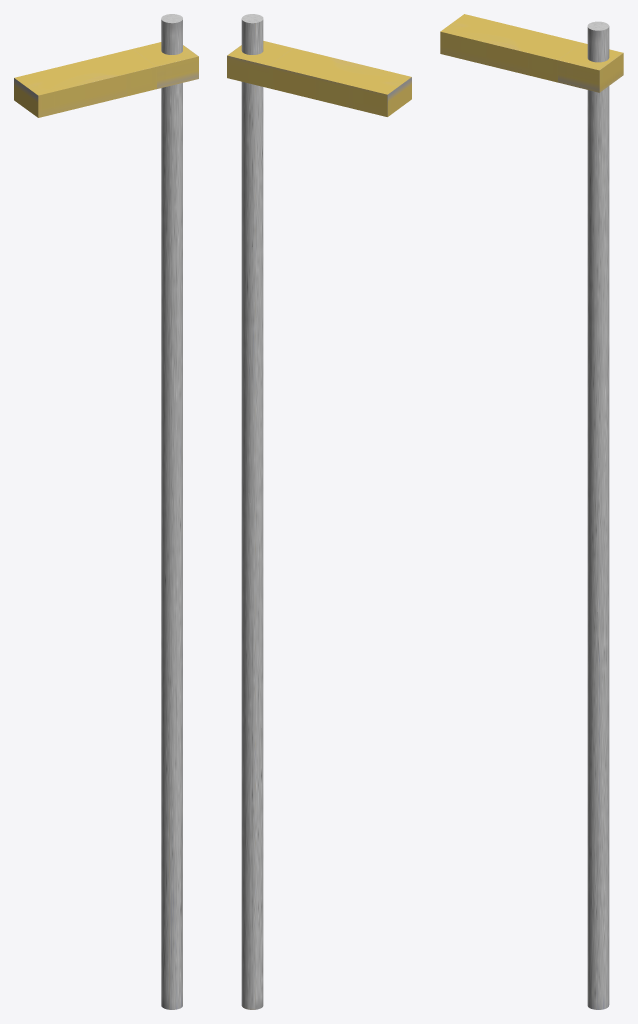
Rendered from street_lamp.obj.
3 renders of one model, left to right at view 1: azimuth 30°, elevation 25°; view 2: azimuth 150°, elevation 25°; view 3: azimuth 330°, elevation 25°, orthographic.
Parts seen in each view (by area): view 1: street_lamp_0; view 2: street_lamp_0; view 3: street_lamp_0.
Boxes of the visible parts, bbox=[...] form: street_lamp_0: bbox=[14, 14, 198, 1009]; street_lamp_0: bbox=[227, 14, 411, 1009]; street_lamp_0: bbox=[440, 14, 623, 1009].
Size of the model in its own units: 21.45 by 126 by 5.62.
1 material, 1 textured.
